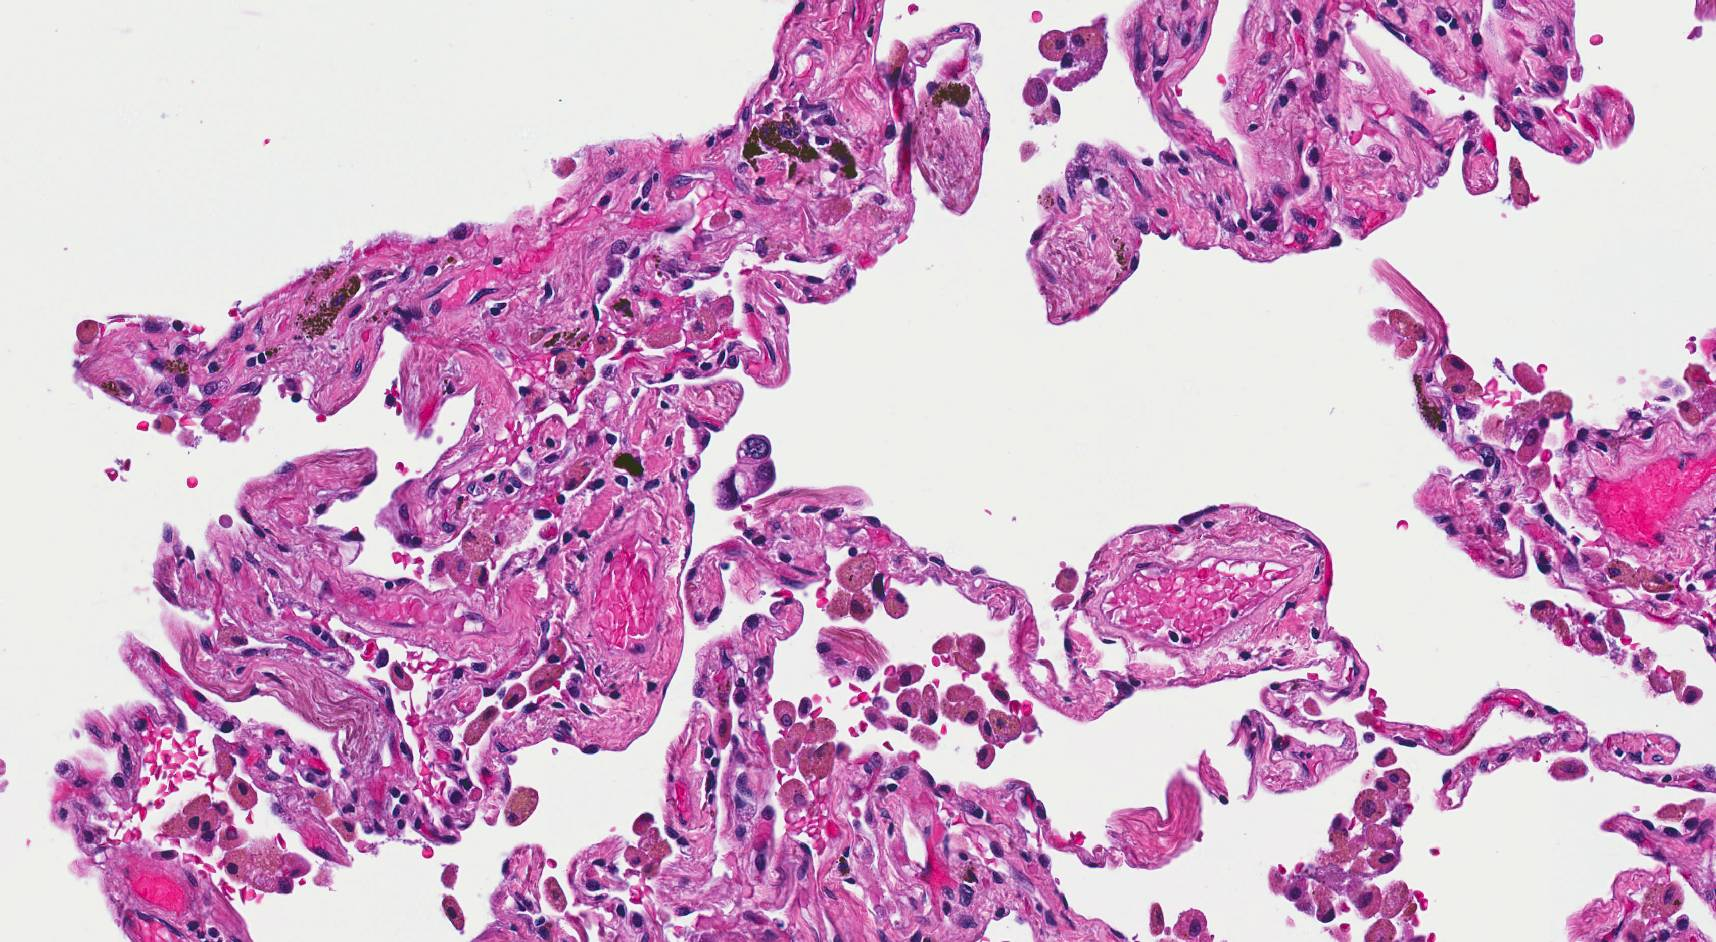stas: (712, 432, 777, 513)
